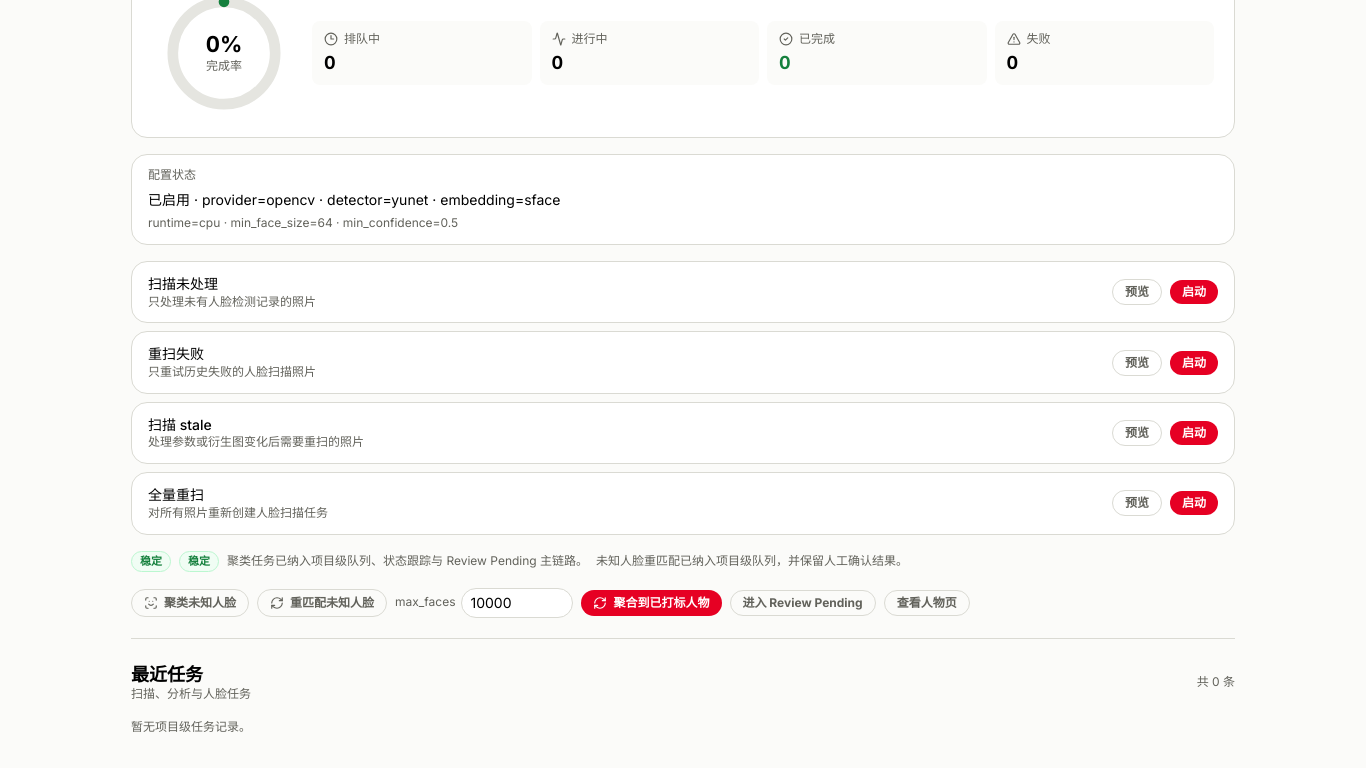
Test case: TasksPage › starts a project-wide face rematch into labeled people
(page scrolled)
Expected: the number field named "全项目聚合 max_faces" holds "10000", [462,588,574,618]
Click the button "聚合到已打标人物" at {"x": 652, "y": 603}, box [582,590,722,616]
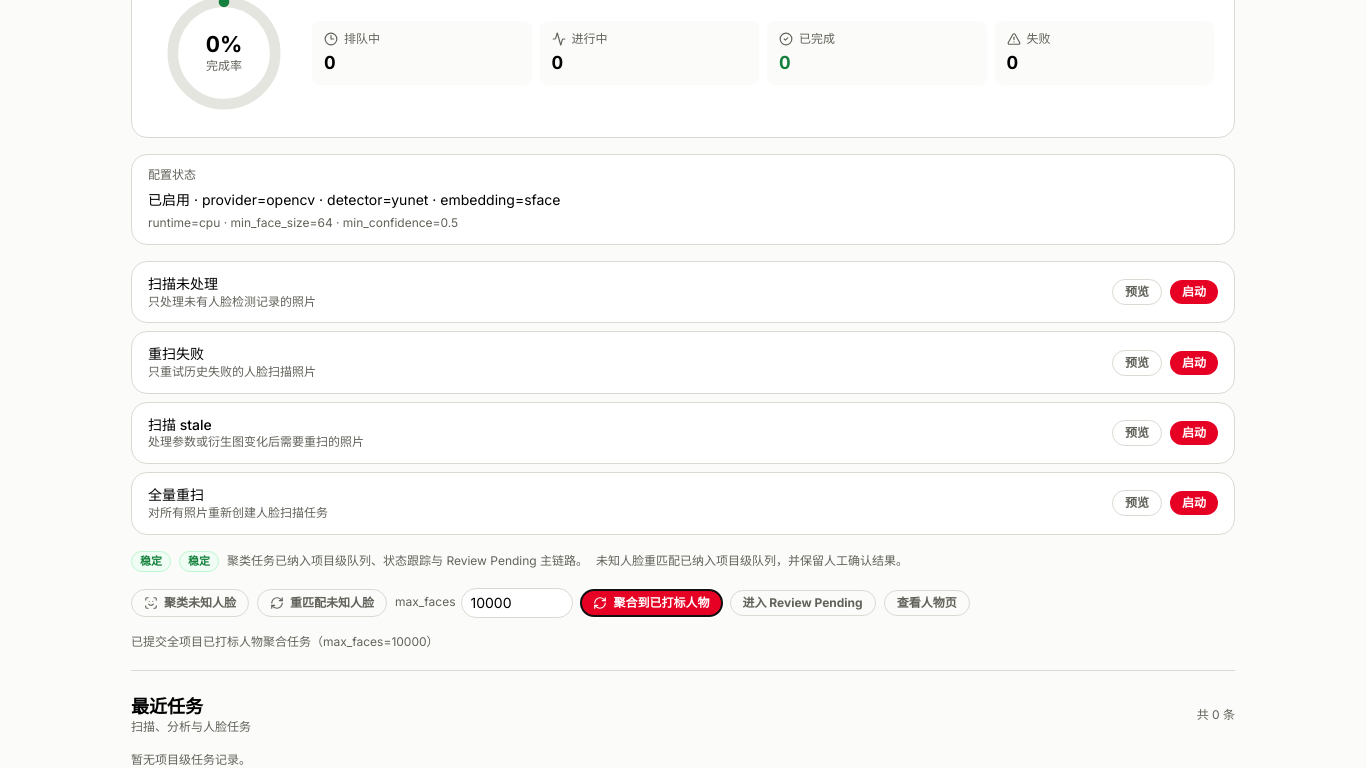
Now the text "已提交全项目已打标人物聚合任务（max_faces=10000）" is shown, box [131,634,439,648]
